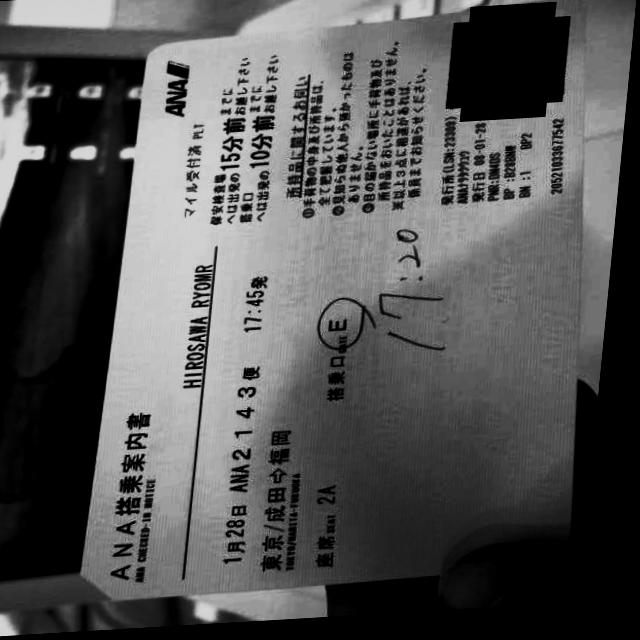qr_code: (455, 16, 565, 120)
